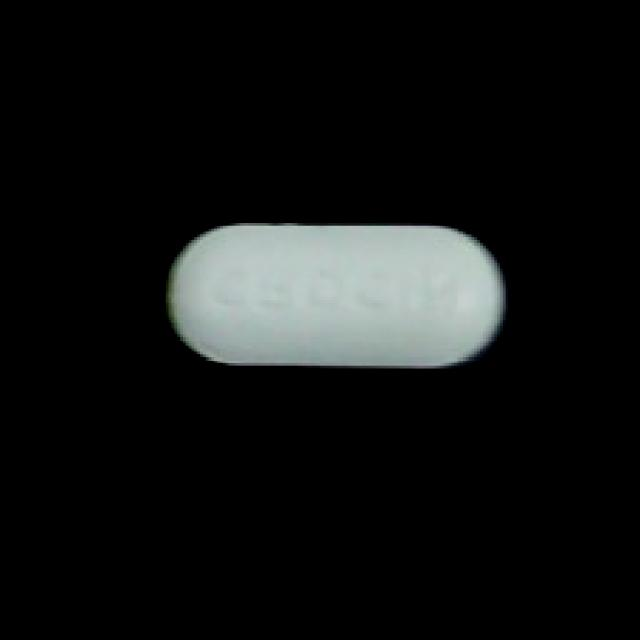no-defect: (157, 214, 509, 380)
